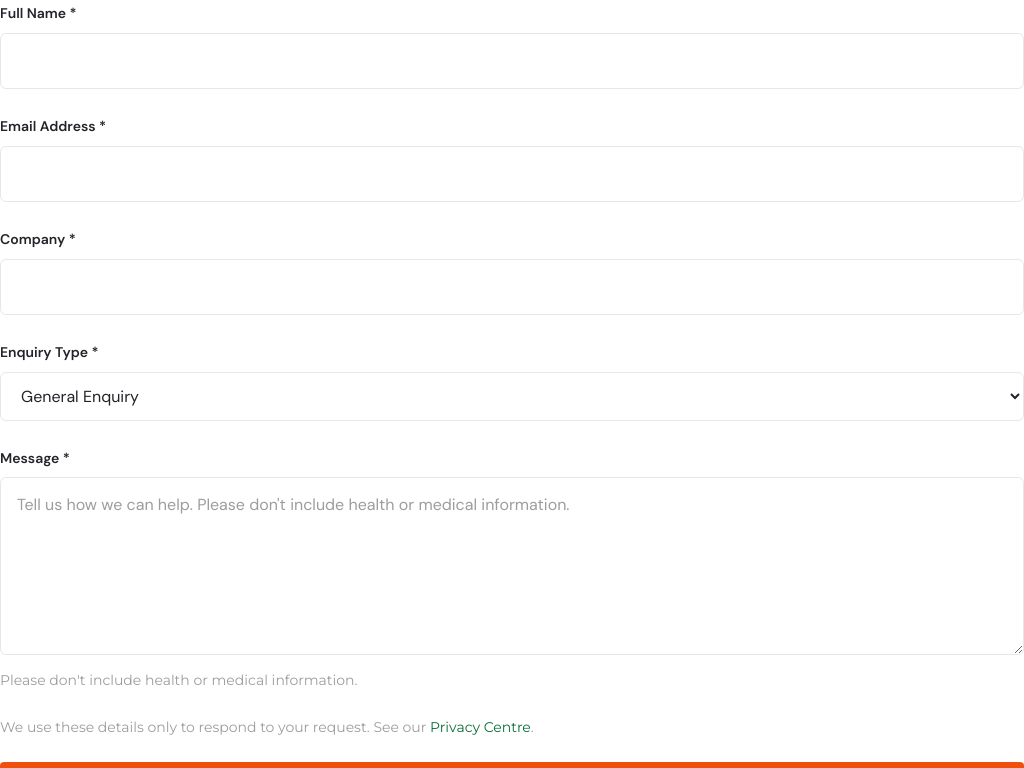
Test case: ContactUsForm › submits form successfully
Type "Jane Doe" into the field labelled "Full Name *" at (512, 61), box top-left (0, 33), bottom-right (1023, 89)
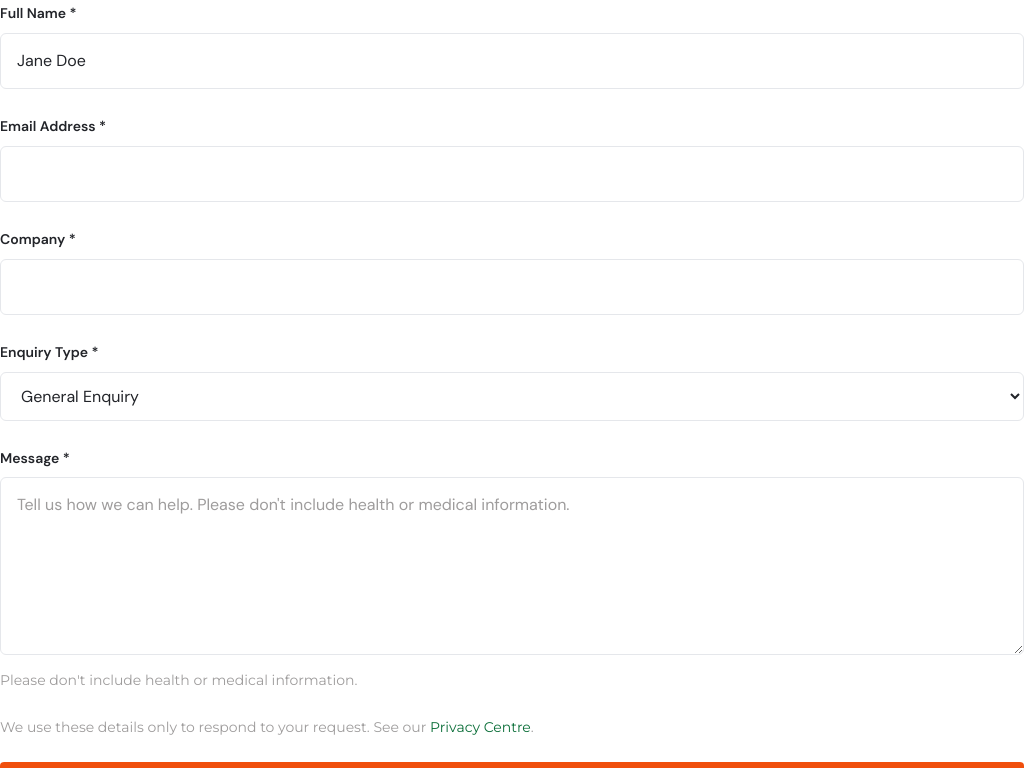
Type "jane@example.com" into the field labelled "Email Address *" at (512, 174), box top-left (0, 146), bottom-right (1023, 202)
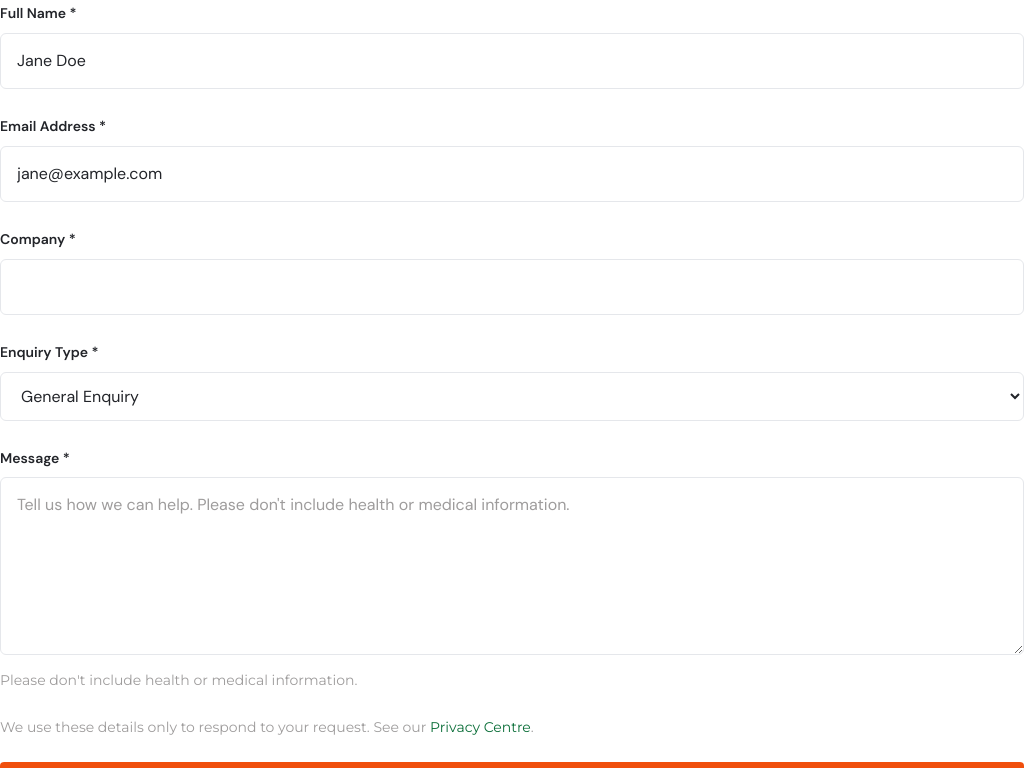
Type "Tech Corp" into the field labelled "Company *" at (512, 287), box top-left (0, 259), bottom-right (1023, 315)
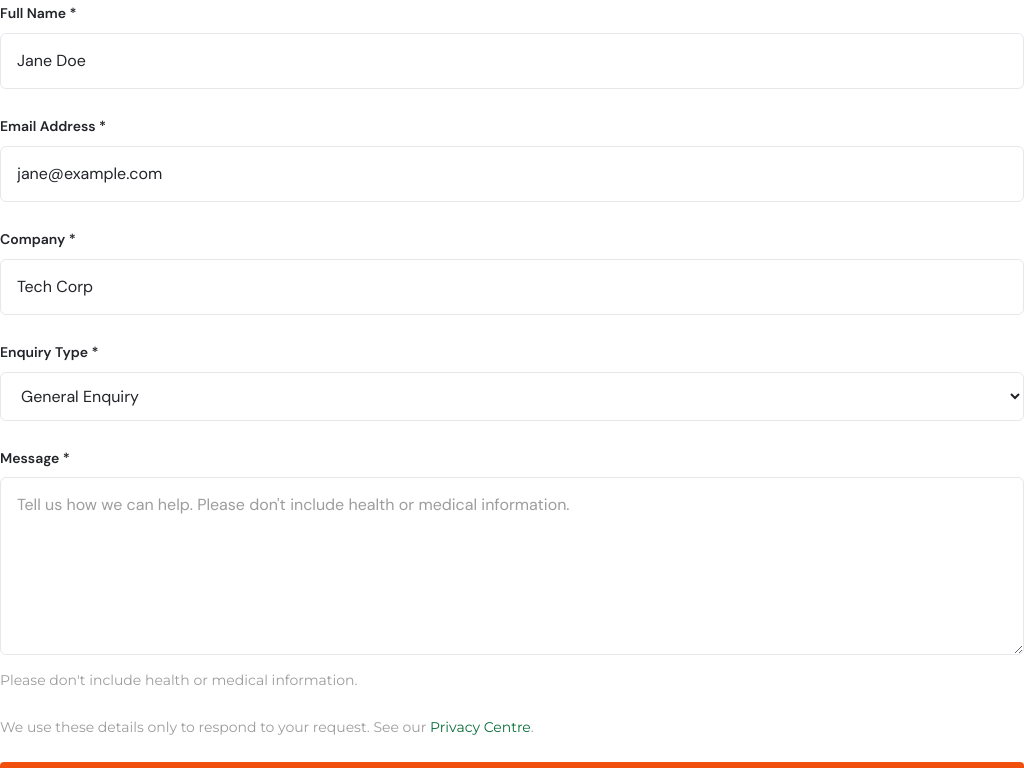
Replace the text in the text box labelled "Message *" with "Hello, I have a question." at (512, 566), box top-left (0, 477), bottom-right (1023, 655)
(page scrolled)
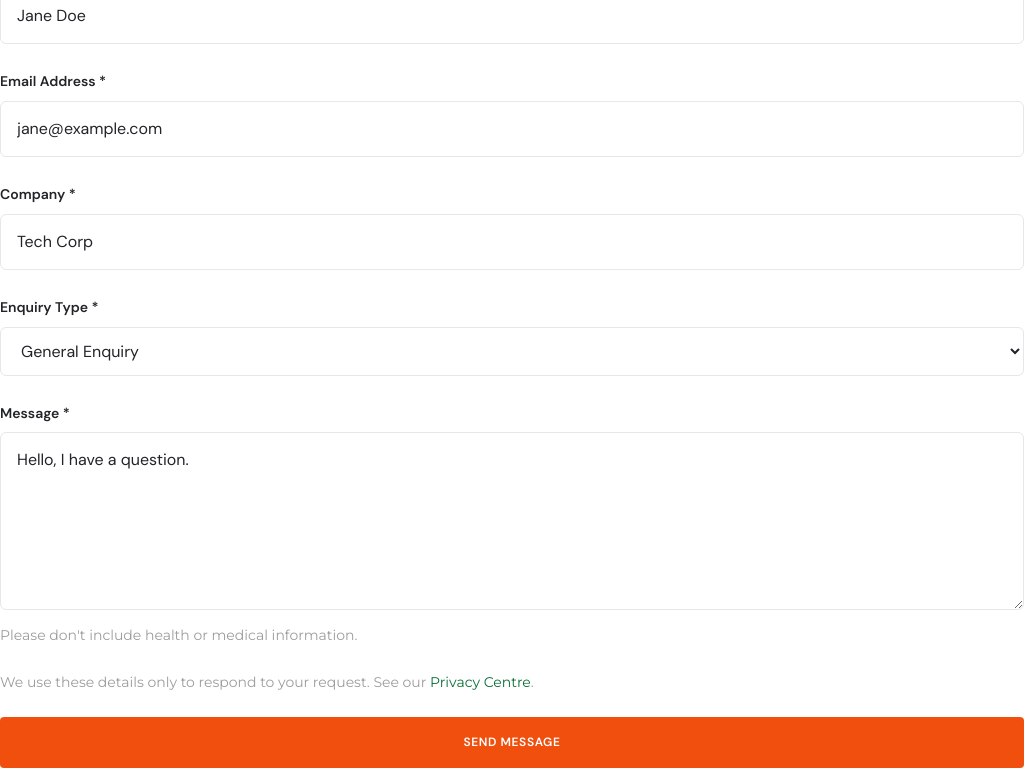
Click the button "Send Message" at (512, 743), box top-left (0, 717), bottom-right (1023, 767)
(page scrolled)
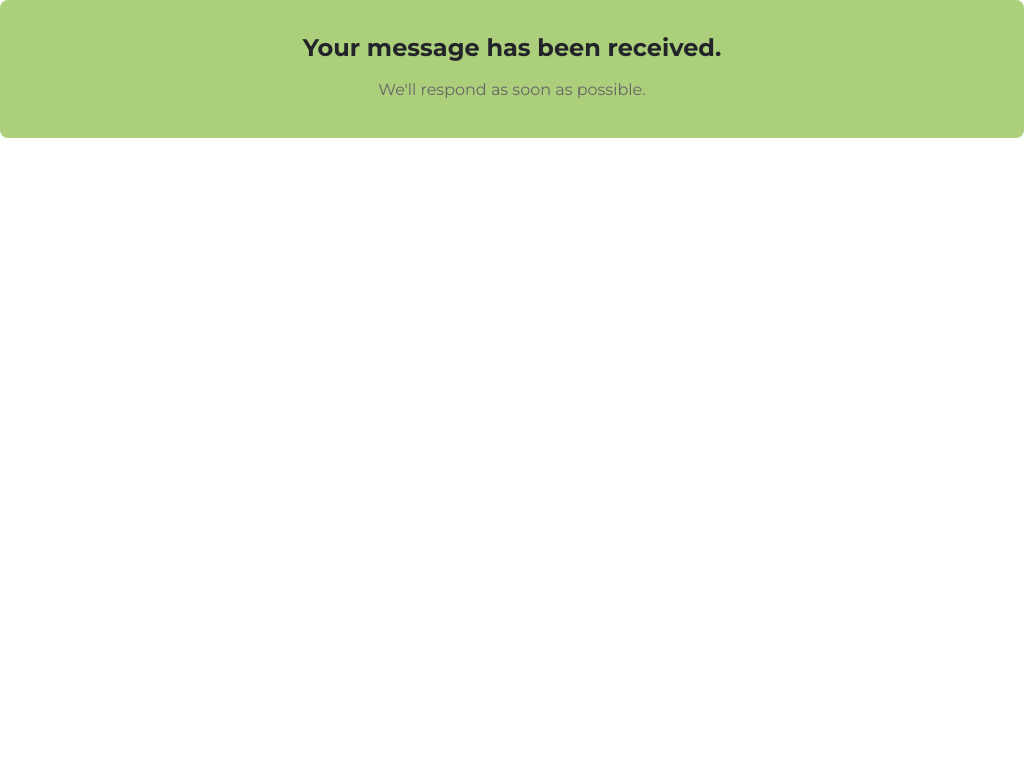
Expected: the text "We'll respond as soon as possible." is shown, top-left (378, 80), bottom-right (646, 99)
